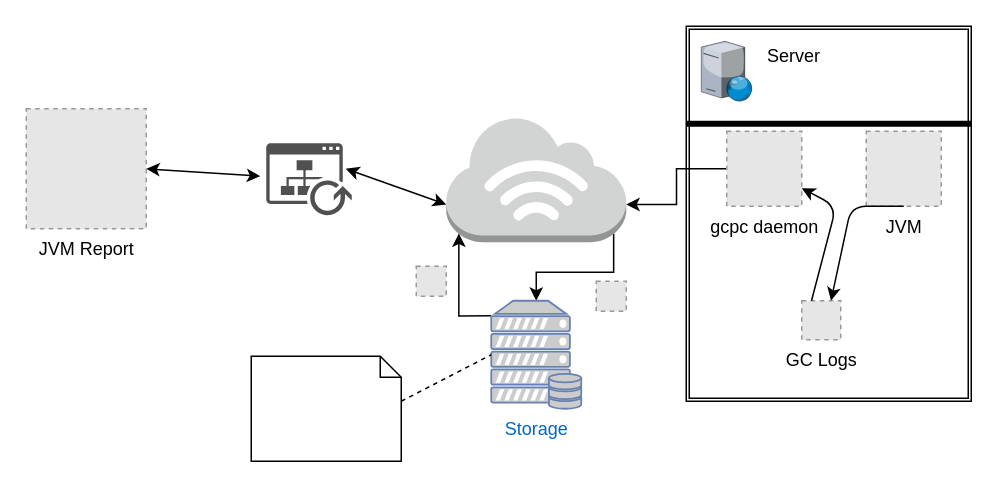
This 1001x488 diagram has some shape labels left out. Grey dashed boxes stand in for pictures. The shapes that lost their labels are listed below. From the top down, each one's centre as x and y in pixels, then its label:
(x=308, y=178): GCPlot Logs Analyzer
(x=535, y=178): INTERNET
(x=325, y=408): Can be either GCPlot Default, or your own S3 Storage
